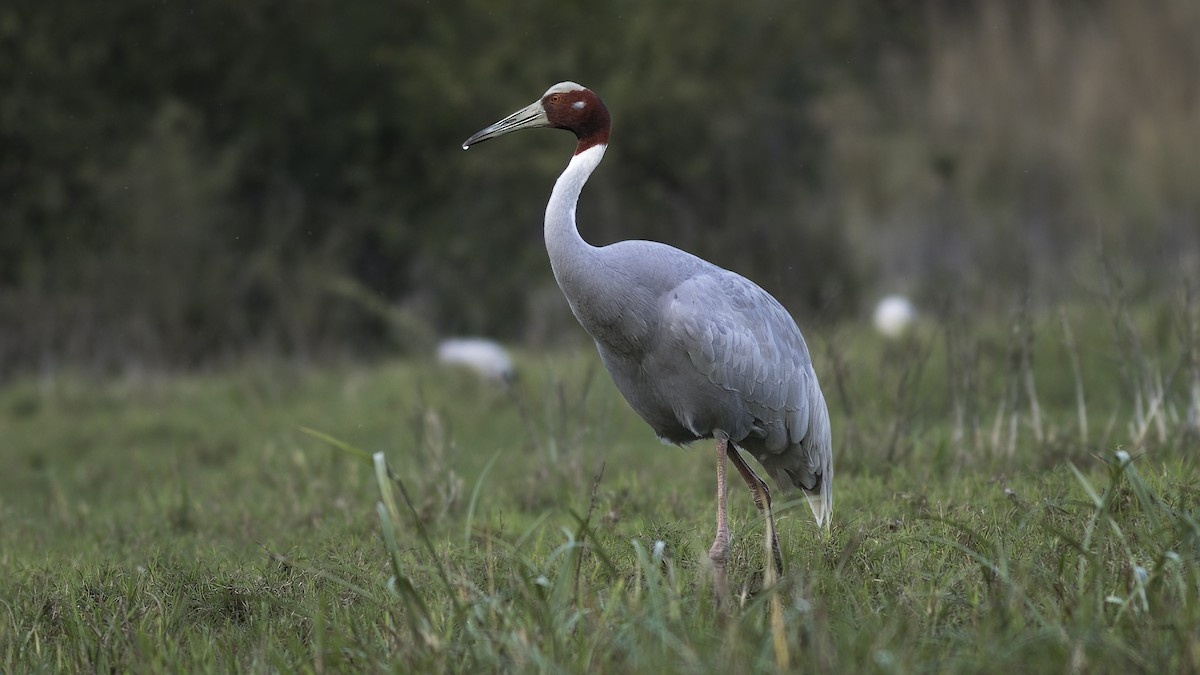crane: (457, 72, 864, 613)
